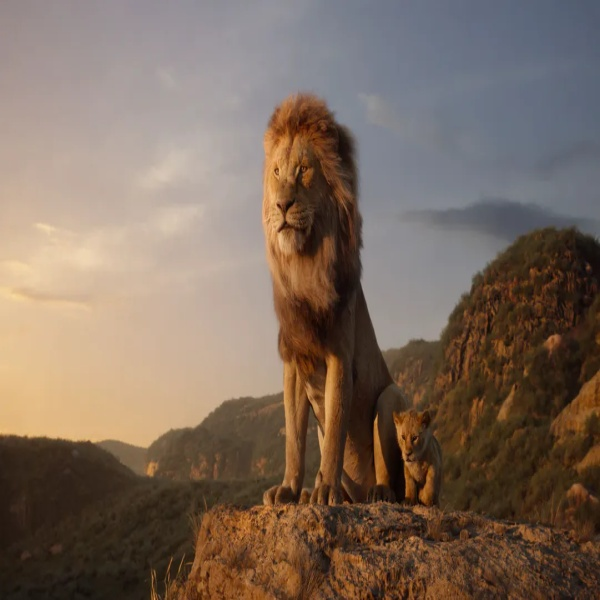Lion: (260, 91, 407, 510), (391, 405, 447, 511)
